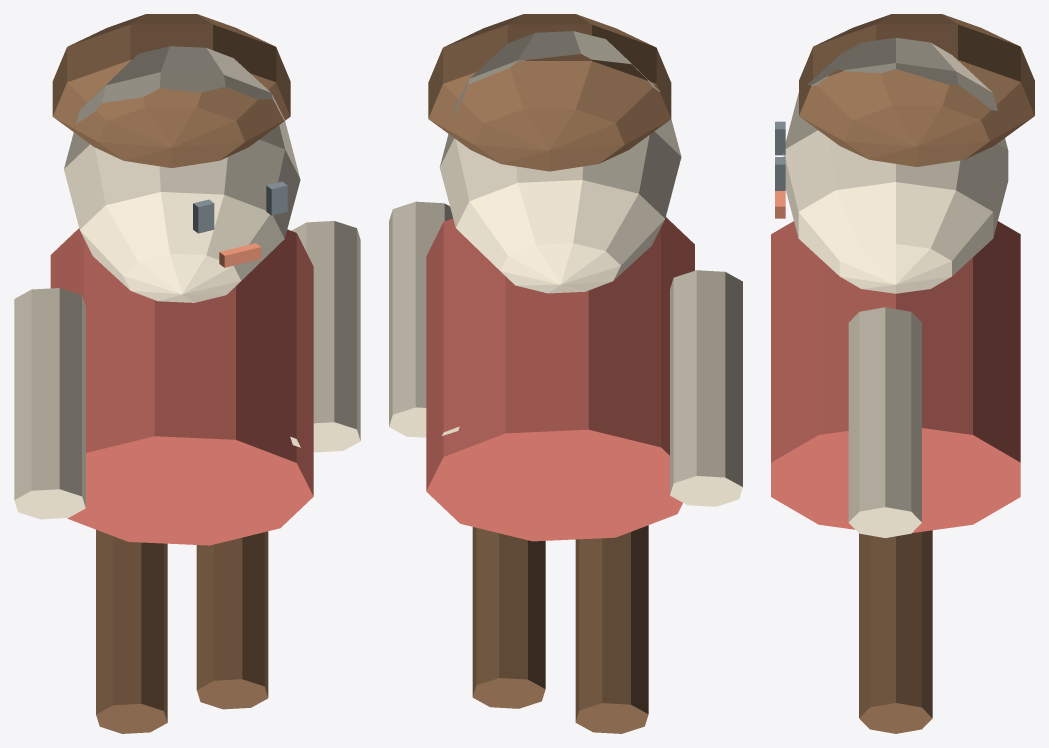
Rendered from guest_coral.glb.
3 views of the same model, side by side, from view 1: azimuth 30°, elevation 25°; view 2: azimuth 150°, elevation 25°; view 3: azimuth 270°, elevation 25° (orthographic). The views are drawn at different scales.
Visible parts, largest first — view 1: guest_coral; view 2: guest_coral; view 3: guest_coral.
Part boxes in pixels (x1=…): guest_coral: x1=14, y1=14, x2=360, y2=733; guest_coral: x1=389, y1=14, x2=742, y2=733; guest_coral: x1=771, y1=14, x2=1034, y2=733.
Bounding box in the file's own units: 0.74 × 1.39 × 0.5026.
